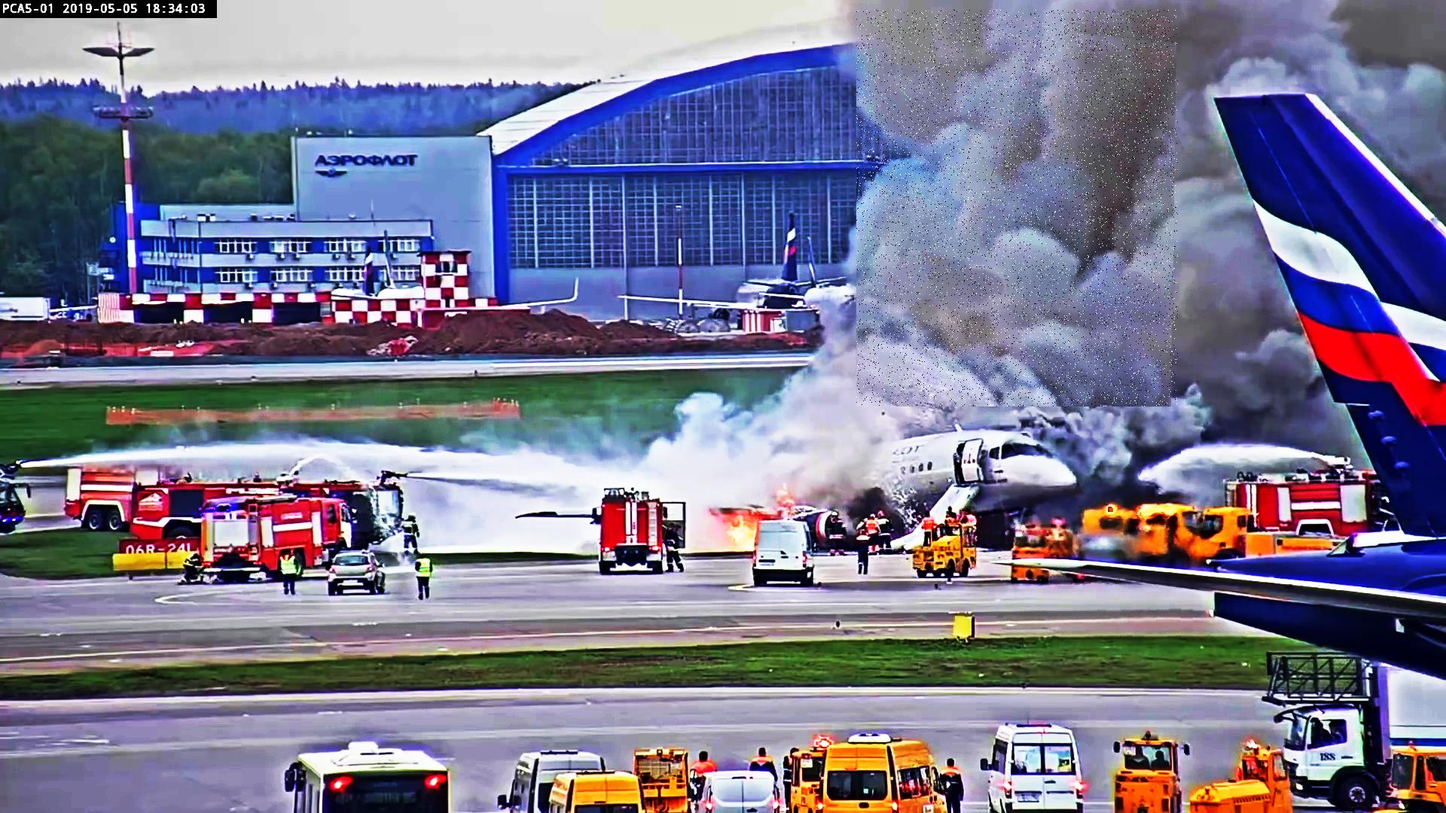smoke: (857, 10, 1179, 407)
